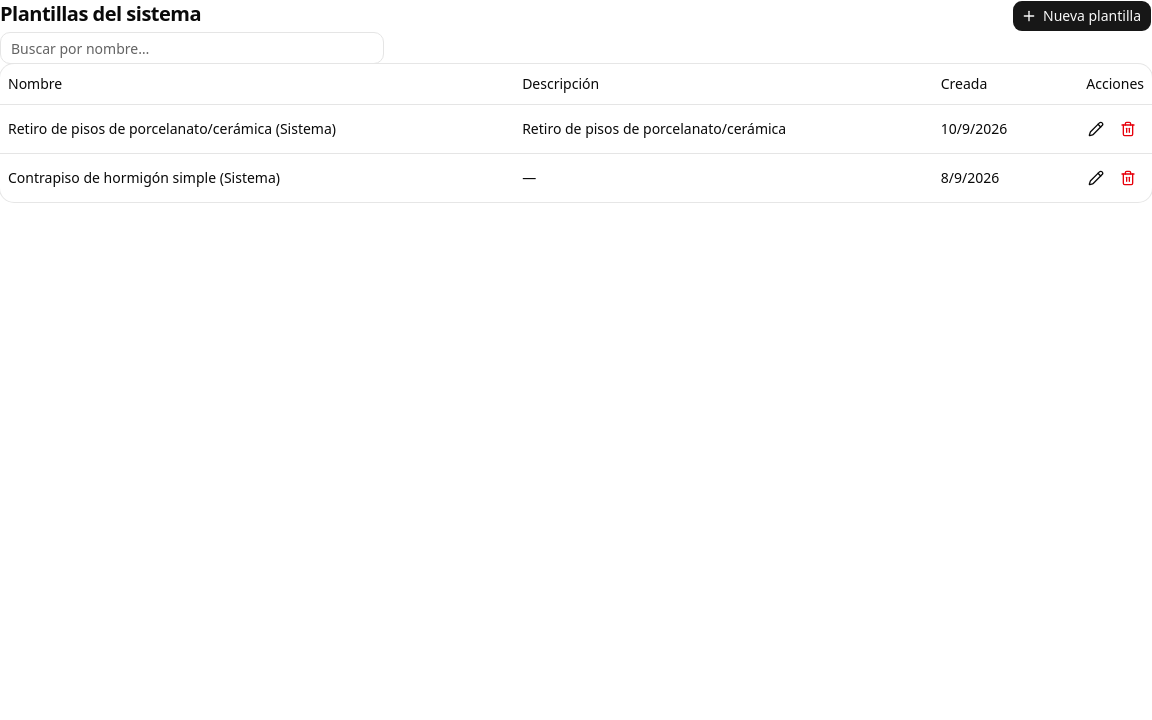
Test: AdminPlantillasPageActiva › si la cascada de proyecto→versión→APU viene vacía, lo dice y deshabilita Crear
This screenshot has width=1152, height=720.
Check: the text "Retiro de pisos de porcelanato/cerámica (Sistema)" is shown, box x1=0 y1=104 x2=514 y2=153
Click the button "Nueva plantilla". click: (1082, 16)
box: x1=1012 y1=0 x2=1151 y2=32
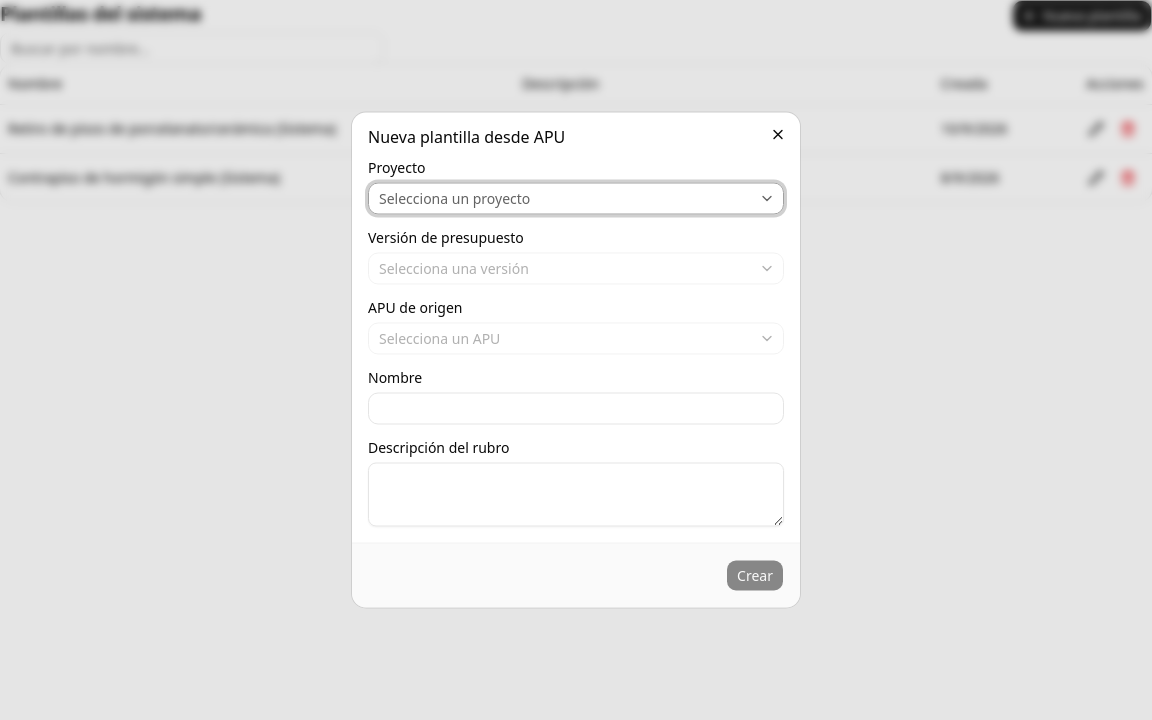
Click the dropdown labelled "proyecto". click: (455, 198)
box: x1=368 y1=182 x2=784 y2=214
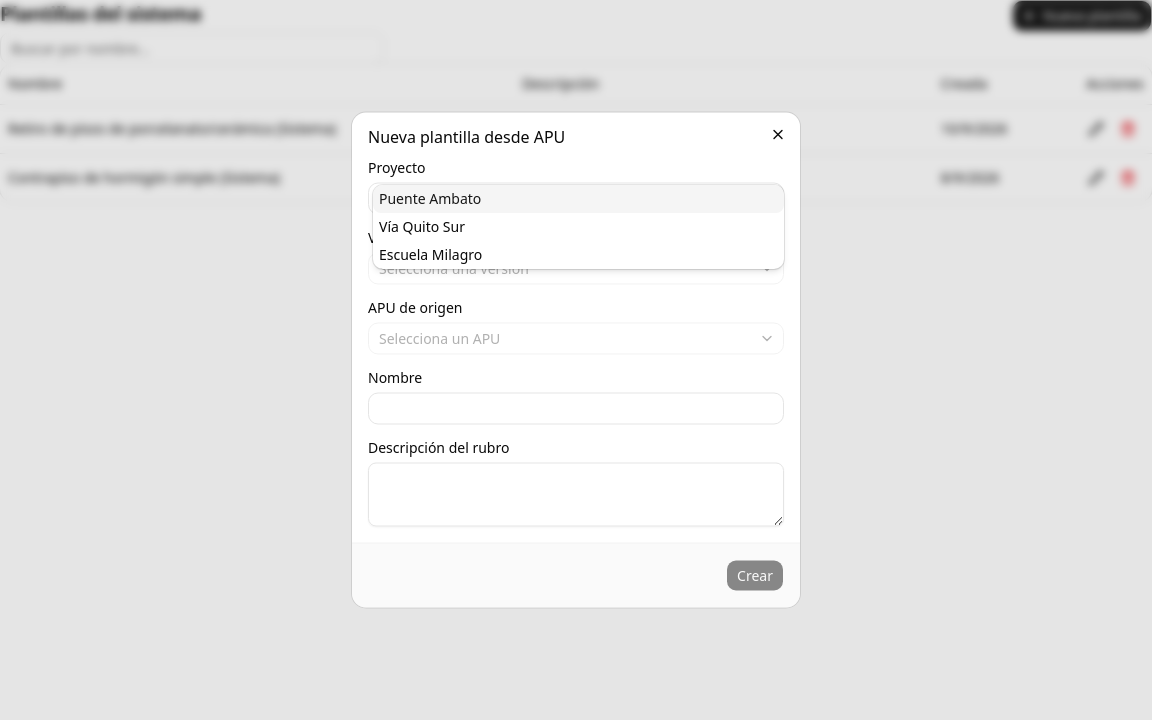
Click the option "Puente Ambato". click: (430, 198)
box: x1=373 y1=184 x2=784 y2=212
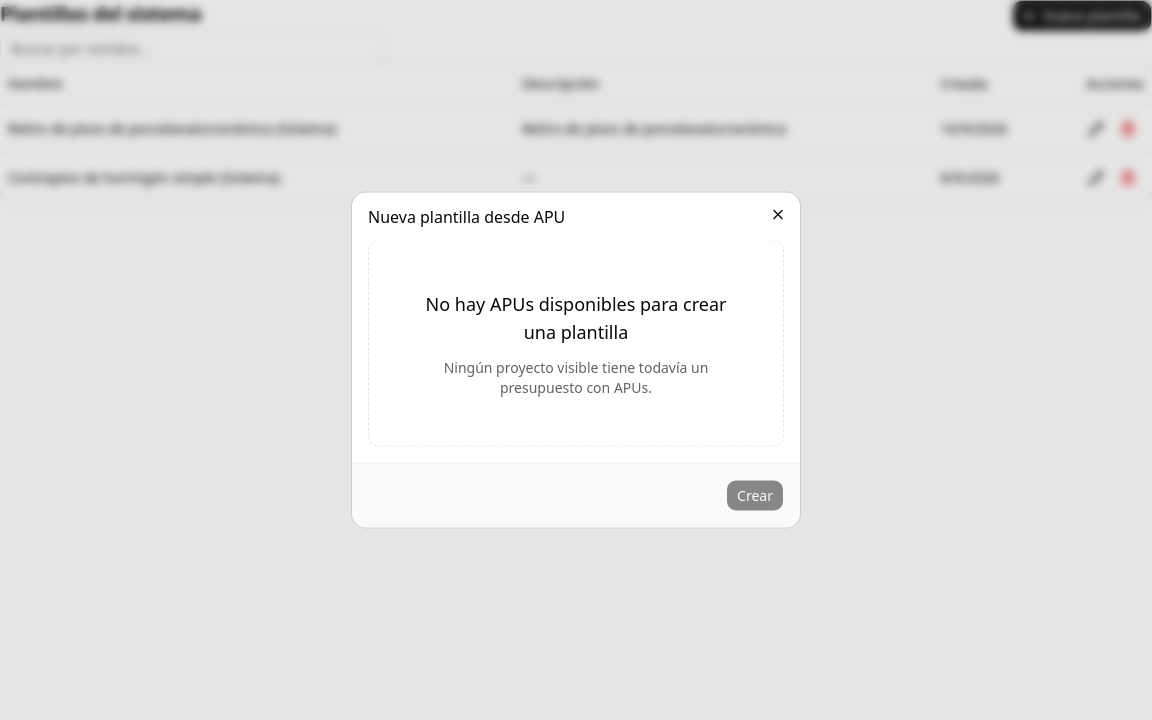
Check: the button "Crear" is disabled, box x1=726 y1=480 x2=784 y2=512
Check: the heading "No hay APUs disponibles para crear una plantilla" is shown, box x1=417 y1=290 x2=735 y2=346
